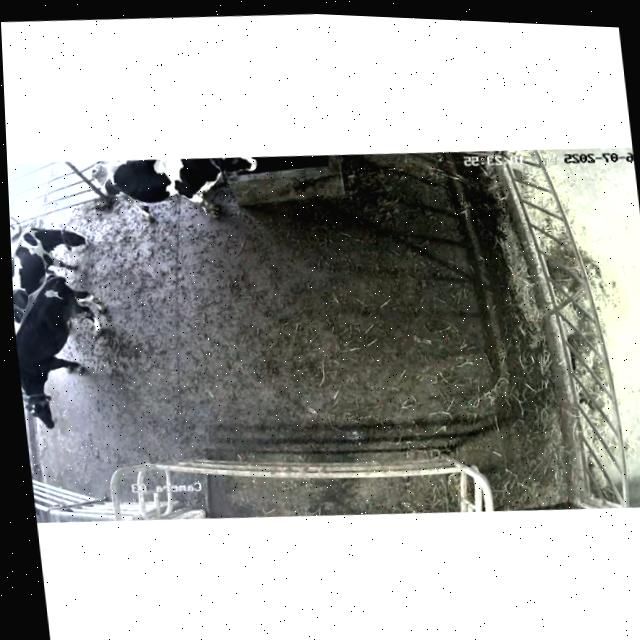stand: (12, 270, 126, 441), (97, 148, 263, 233), (9, 209, 97, 316)
